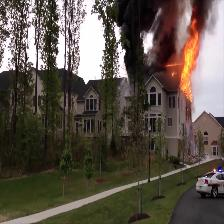fire: (183, 24, 196, 99)
smoke: (118, 2, 176, 67), (194, 0, 208, 23)
